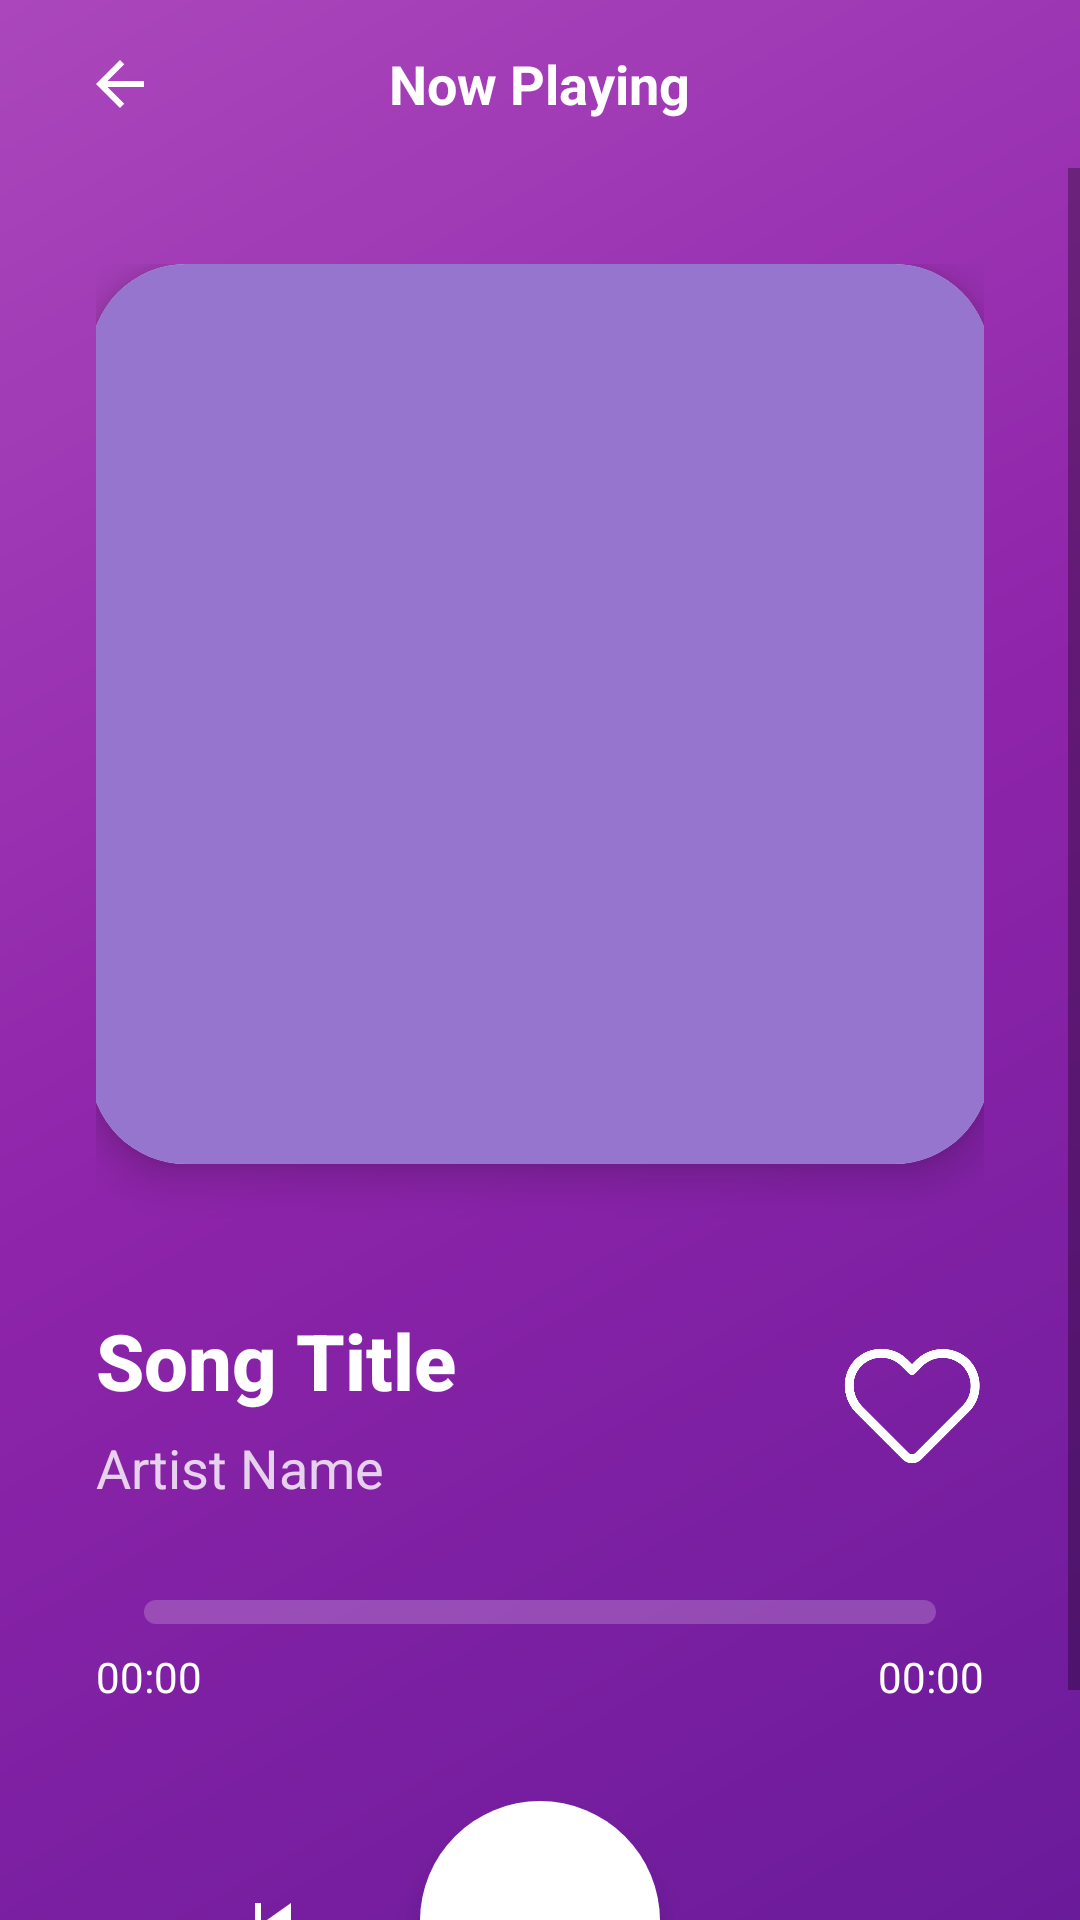

Locate icon controls on the screen. Image size 1080*1920, boxes as BBox(x1, y1, x2, y2).
Back: BBox(96, 60, 144, 108)
whishlist: BBox(845, 1349, 980, 1463)
